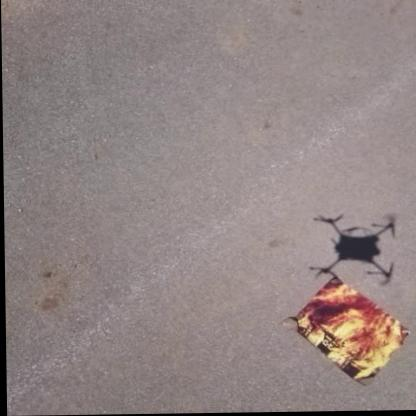fire-poster: (279, 271, 410, 389)
